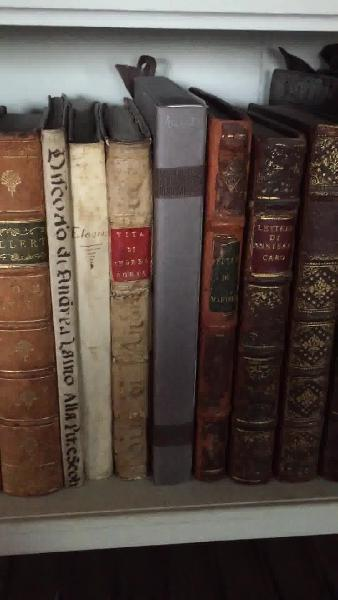Aa6-24: (40, 125, 92, 491)
Aa6-25: (68, 141, 127, 485)
Aa6-26: (102, 135, 152, 483)
Aa6-27: (148, 91, 208, 487)
Aa6-28: (201, 113, 244, 491)
Aa6-29: (232, 113, 299, 500)
Aa6-30: (272, 102, 338, 499)
